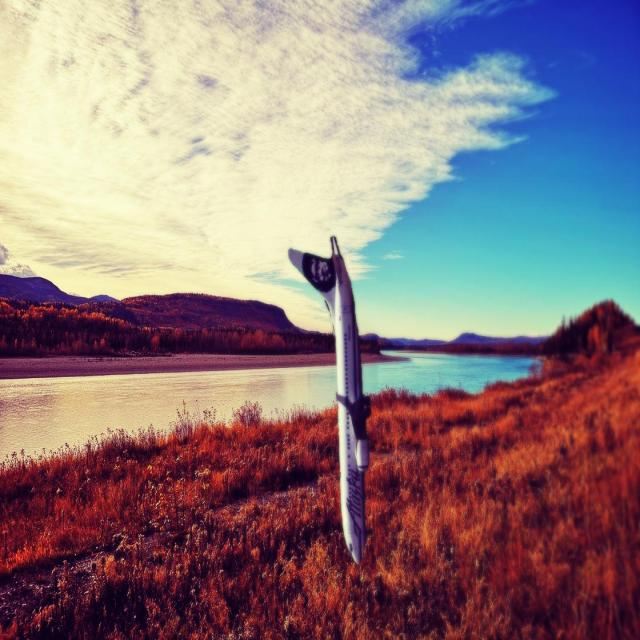airplane: (287, 234, 373, 564)
